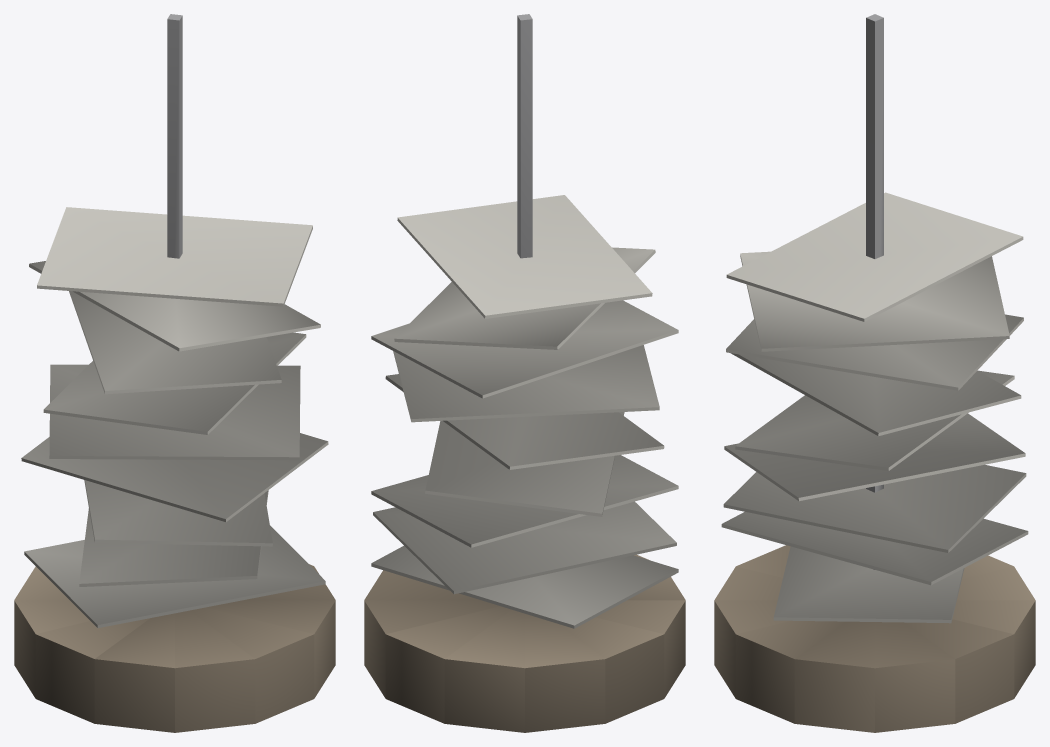
The model's file is chit_spike.glb.
3 renders of one model, left to right at view 1: azimuth 30°, elevation 25°; view 2: azimuth 150°, elevation 25°; view 3: azimuth 270°, elevation 25°, orthographic.
Parts seen in each view (by area): view 1: static; view 2: static; view 3: static.
Part boxes in pixels (<box>): static: <box>14,14,335,732</box>; static: <box>364,14,685,732</box>; static: <box>714,14,1035,732</box>.
Bounding box in the file's own units: 0.09 × 0.2 × 0.09.
